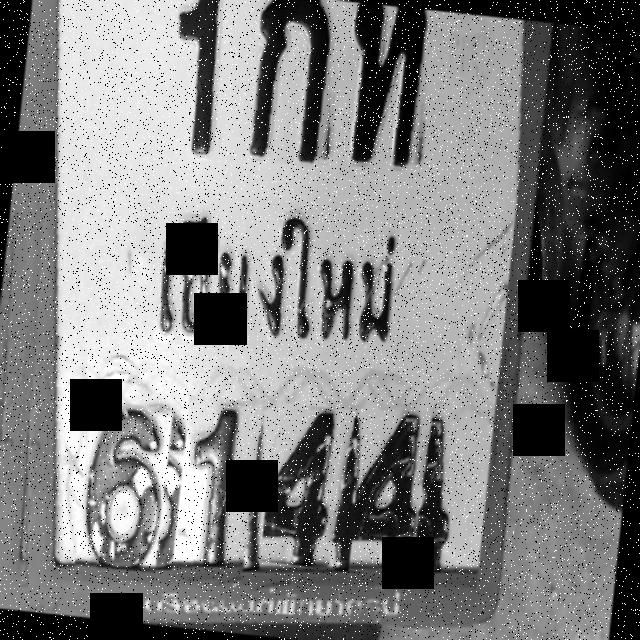letters: (73, 397, 173, 583), (336, 2, 438, 183), (170, 394, 264, 590), (237, 0, 345, 168), (348, 382, 436, 578), (260, 402, 356, 569), (157, 0, 235, 161)
license-plate: (41, 0, 534, 614)
province: (121, 182, 425, 369)
